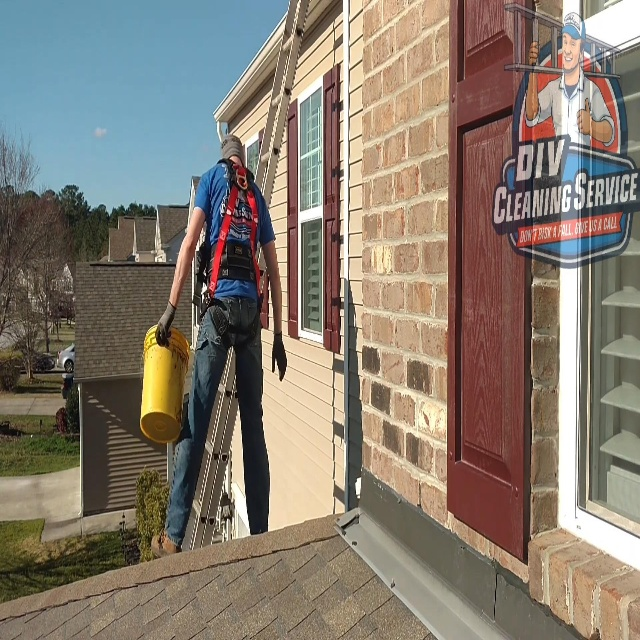Arnes_seguridad: (191, 152, 264, 349)
